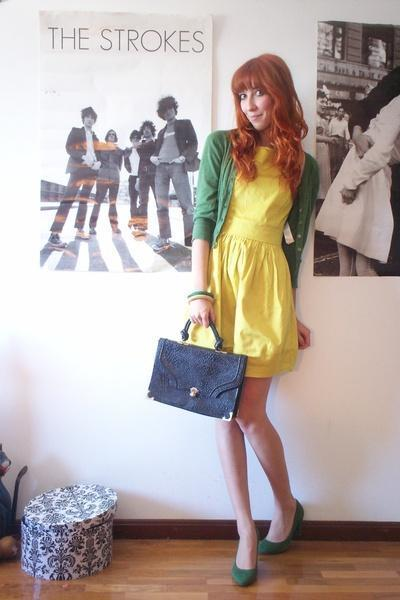bag: (148, 324, 247, 418)
dress: (182, 147, 310, 377)
jacket: (184, 130, 323, 299)
shoe: (232, 503, 316, 587)
